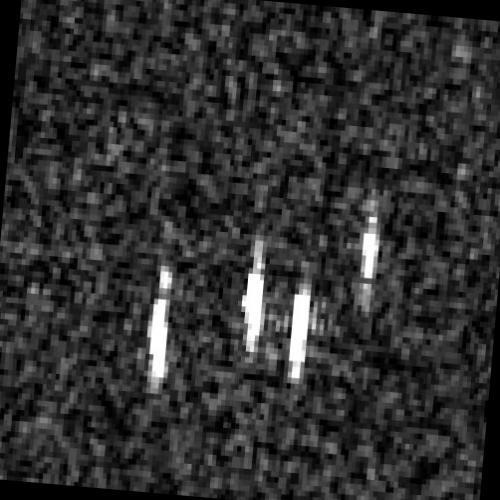ship: (147, 267, 173, 394), (285, 278, 310, 382), (243, 244, 266, 353), (358, 214, 380, 311)
